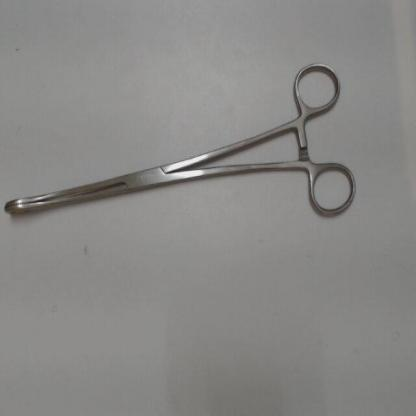Sponge Forceps: (3, 45, 364, 227)
